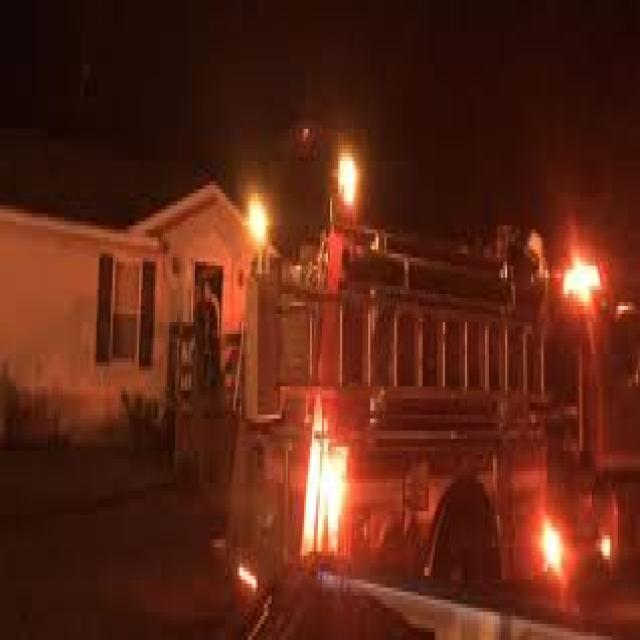Fire: (303, 424, 349, 554)
